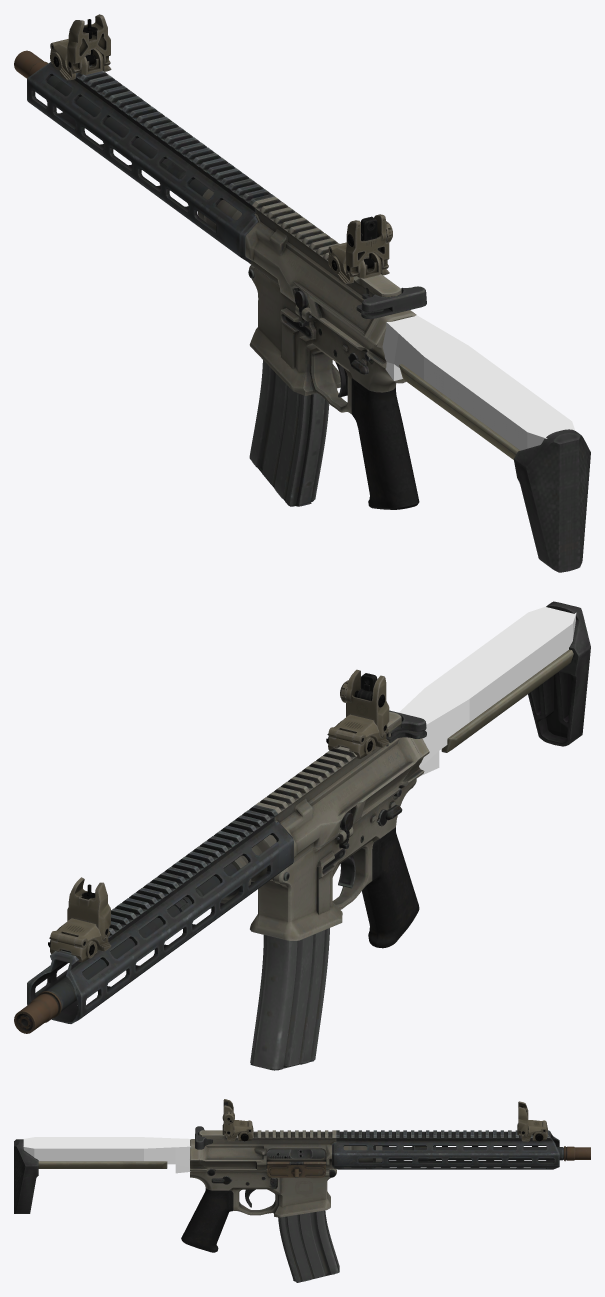
Rendered from Gun.fbx.
The picture shows the model from 3 angles, top to bottom: view 1: azimuth 30°, elevation 25°; view 2: azimuth 150°, elevation 25°; view 3: azimuth 270°, elevation 25°; orthographic projection. The views are drawn at different scales.
Visible parts, largest first — view 1: node_5fbcbbc8_da66_41e5_afe6_e8cd2409bb91_mesh0, node_5fbcbbc8_da66_41e5_afe6_e8cd2409bb91_mesh3, node_5fbcbbc8_da66_41e5_afe6_e8cd2409bb91_mesh1; view 2: node_5fbcbbc8_da66_41e5_afe6_e8cd2409bb91_mesh0, node_5fbcbbc8_da66_41e5_afe6_e8cd2409bb91_mesh3, node_5fbcbbc8_da66_41e5_afe6_e8cd2409bb91_mesh1; view 3: node_5fbcbbc8_da66_41e5_afe6_e8cd2409bb91_mesh0, node_5fbcbbc8_da66_41e5_afe6_e8cd2409bb91_mesh3, node_5fbcbbc8_da66_41e5_afe6_e8cd2409bb91_mesh1.
Boxes of the visible parts, x1,y1,x2,y2 form: node_5fbcbbc8_da66_41e5_afe6_e8cd2409bb91_mesh0: [14, 50, 590, 572]; node_5fbcbbc8_da66_41e5_afe6_e8cd2409bb91_mesh3: [382, 315, 575, 450]; node_5fbcbbc8_da66_41e5_afe6_e8cd2409bb91_mesh1: [50, 14, 392, 283]; node_5fbcbbc8_da66_41e5_afe6_e8cd2409bb91_mesh0: [14, 601, 590, 1070]; node_5fbcbbc8_da66_41e5_afe6_e8cd2409bb91_mesh3: [399, 606, 576, 776]; node_5fbcbbc8_da66_41e5_afe6_e8cd2409bb91_mesh1: [48, 669, 389, 962]; node_5fbcbbc8_da66_41e5_afe6_e8cd2409bb91_mesh0: [14, 1126, 590, 1282]; node_5fbcbbc8_da66_41e5_afe6_e8cd2409bb91_mesh3: [22, 1137, 190, 1173]; node_5fbcbbc8_da66_41e5_afe6_e8cd2409bb91_mesh1: [222, 1099, 547, 1141].
Size of the model in its own units: 23.74 by 118 by 346.
Materials: 4 (3 with a texture image).
